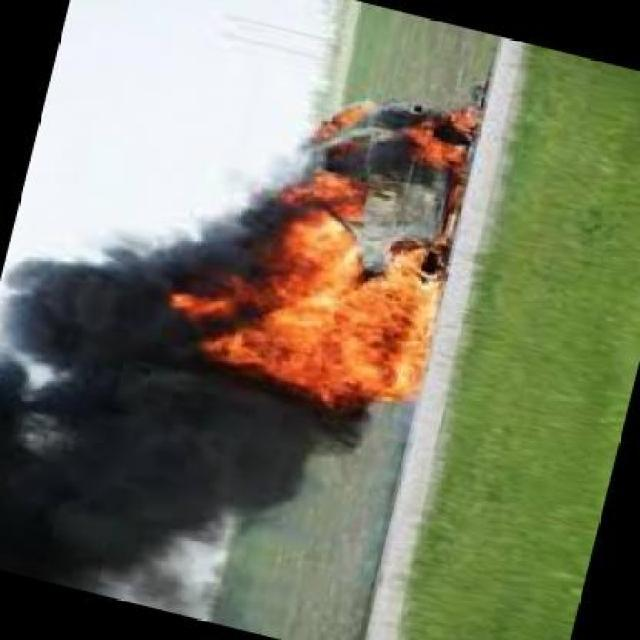Fire: (192, 92, 476, 408)
Smoke: (6, 246, 206, 584), (166, 412, 374, 522)
